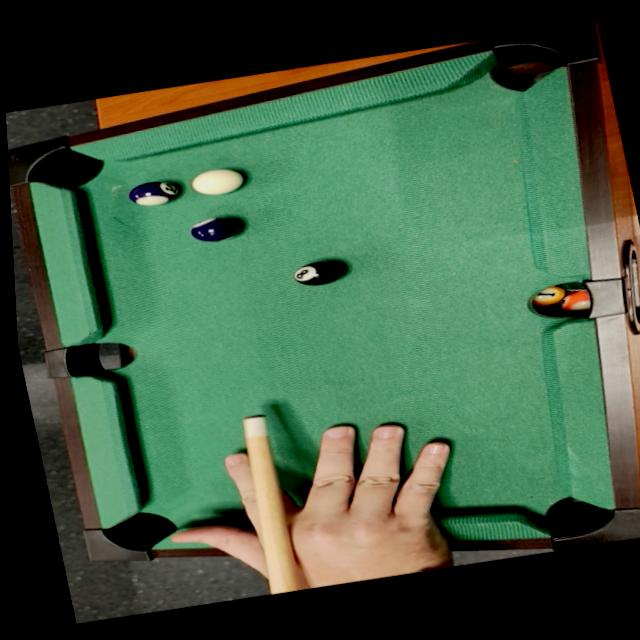cue ball: (188, 162, 250, 199)
other: (287, 253, 351, 292), (185, 211, 252, 248), (123, 175, 185, 210)
